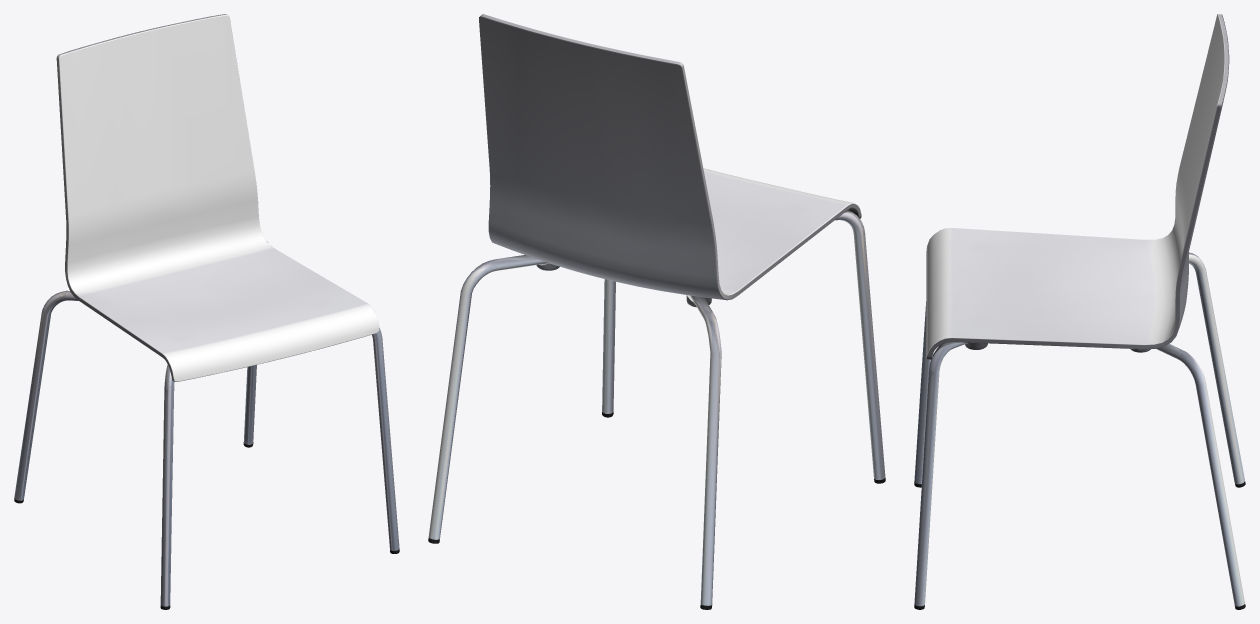
File: kuadra_white_chrome_plated.glb
3 views of the same model, side by side, from view 1: azimuth 30°, elevation 25°; view 2: azimuth 150°, elevation 25°; view 3: azimuth 270°, elevation 25° (orthographic). The views are drawn at different scales.
Parts seen in each view (by area): view 1: kuadra-white; view 2: kuadra-white; view 3: kuadra-white.
Part boxes in pixels (x1,y1,x2,y2): kuadra-white: (14, 14, 399, 609); kuadra-white: (428, 14, 885, 609); kuadra-white: (914, 14, 1245, 609).
Size of the model in its own units: 0.4802 by 0.8607 by 0.529.
Materials: 1 (1 with a texture image).
